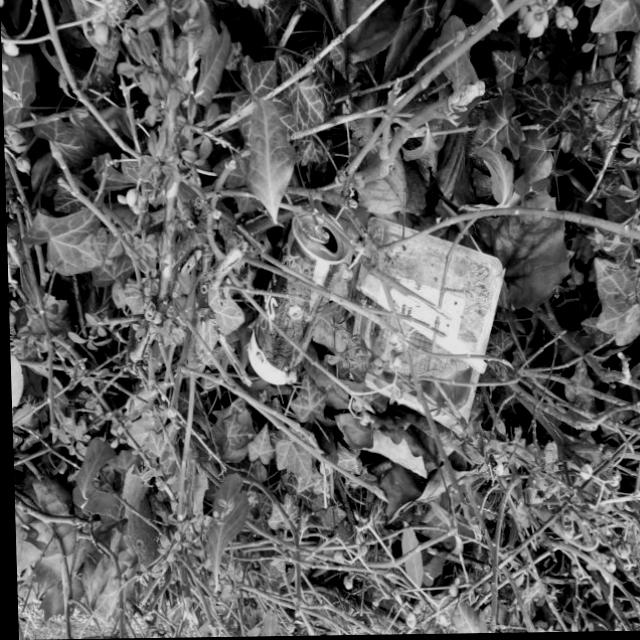Can-Metal: (241, 210, 352, 387)
Plastic: (343, 214, 509, 440)
